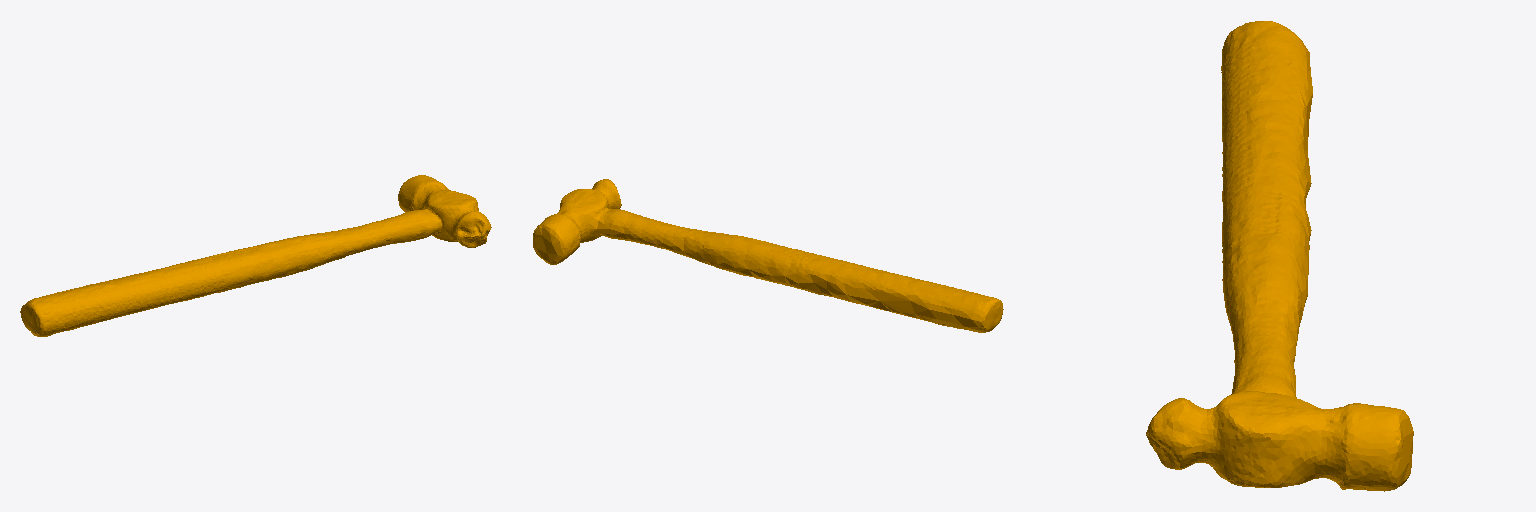
URDF robot description (model.urdf):
<?xml version="1.0" ?>
        <robot name="model.urdf">
        <link name="baseLink">
            <contact>
                <lateral_friction value="0.8"/>
                <rolling_friction value="0.001"/>
                <contact_cfm value="0.0"/>
                <contact_erp value="1.0"/>
            </contact>
            <inertial>
                <mass value="0.066"/>
                <inertia ixx="0.001" ixy="0" ixz="0" iyy="0.001" iyz="0" izz="0.001"/>
            </inertial>
            <visual>
            <geometry>
                <mesh filename="hammer_1.obj" scale="1 1 1"/>
            </geometry>
            <!-- The following material makes the object white in Isaac Gym, so we comment it out.
            <material name="white"> <color rgba="1. 1. 1. 1."/> </material>
            -->
            </visual>
            <collision>
            <geometry>
                <mesh filename="hammer_1.obj" scale="1 1 1"/>
            </geometry>
            </collision>
        </link>
        </robot>

--- Facts derived from the render (not from the file) ---
Views: 3 orthographic renders of the robot side by side, from view 1: azimuth 30°, elevation 25°; view 2: azimuth 150°, elevation 25°; view 3: azimuth 270°, elevation 25°.
Robot: model.urdf — 1 links, 0 joints (none); root link baseLink; default pose: all joints at 0.
Links seen in each view (by area): view 1: baseLink; view 2: baseLink; view 3: baseLink.
Link boxes in pixels (x1,y1,x2,y2): baseLink: (20,175,491,336); baseLink: (533,179,1003,332); baseLink: (1146,21,1413,491).
Size in the robot's own frame: 0.3149 by 0.0858 by 0.0303 metres.
1 mesh visuals loaded from 1 distinct referenced files (1 OBJ).
